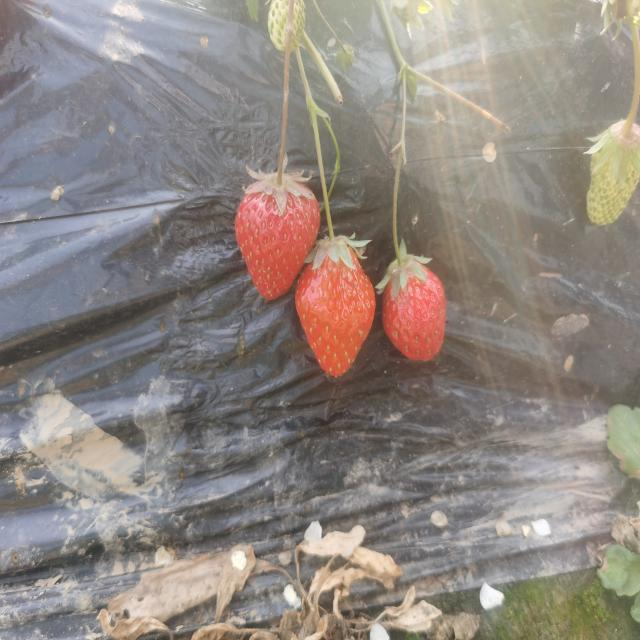stem: (323, 192, 336, 242), (393, 222, 403, 267), (276, 140, 285, 186)
strawberry: (294, 237, 376, 377), (235, 173, 321, 300), (382, 256, 446, 361)
